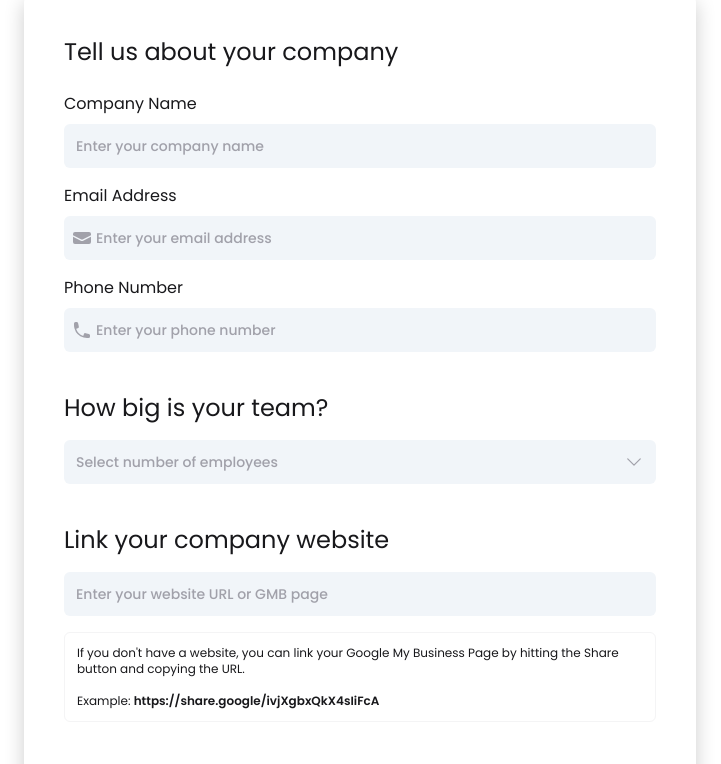
it: MoverSignUpForm › Form Validation › validates website URL format
Type "not-a-valid-url" into the field with placeholder "Enter your website URL or GMB page" at (360, 594), box top-left (64, 572), bottom-right (656, 616)
(page scrolled)
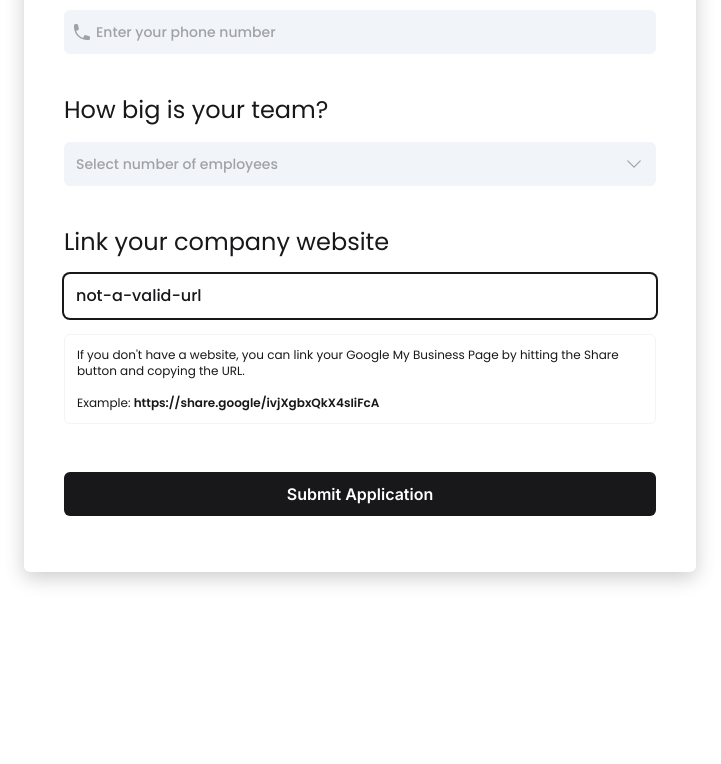
Click the button "Submit Application" at (360, 494), box top-left (64, 472), bottom-right (656, 516)
(page scrolled)
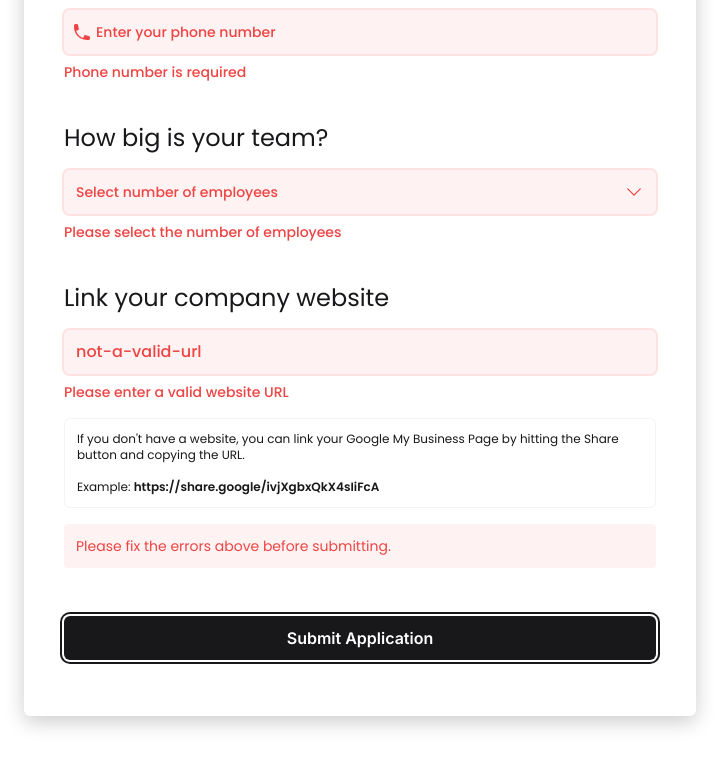
Expected: the text "Please enter a valid website URL" is shown, top-left (64, 382), bottom-right (289, 402)
